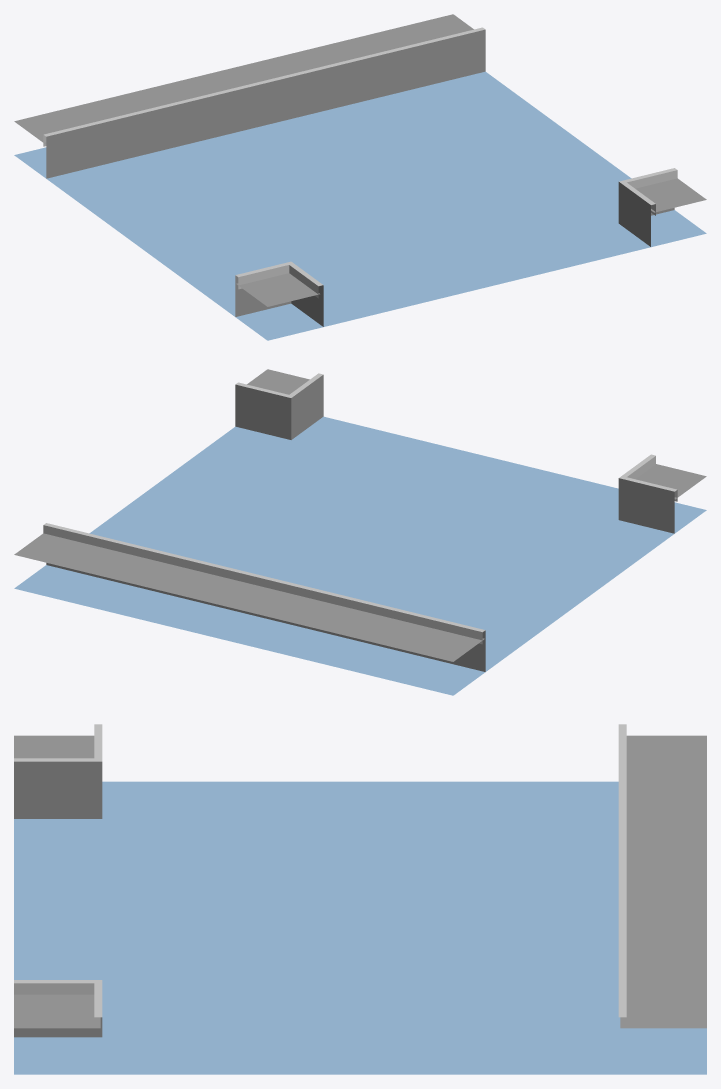
Rendered from road_tile_river_2x2_006.fbx.
3 renders of one model, top to bottom at view 1: azimuth 30°, elevation 25°; view 2: azimuth 150°, elevation 25°; view 3: azimuth 270°, elevation 25°, orthographic. The views are drawn at different scales.
Visible parts, largest first — view 1: road_tile_river_2x2_006; view 2: road_tile_river_2x2_006; view 3: road_tile_river_2x2_006.
Part boxes in pixels (x1,y1,x2,y2): road_tile_river_2x2_006: (14, 14, 706, 340); road_tile_river_2x2_006: (14, 369, 706, 695); road_tile_river_2x2_006: (14, 724, 706, 1074).
Size of the model in its own units: 1600 by 146 by 1600.
